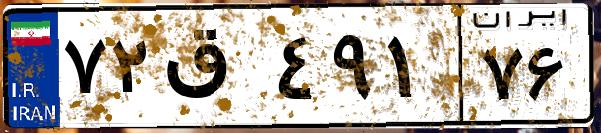1: (385, 28, 445, 110)
2: (110, 28, 158, 98)
4: (270, 28, 330, 110)
6: (525, 38, 570, 115)
7: (57, 26, 110, 100), (475, 38, 525, 113)
9: (330, 28, 385, 110)
ق: (158, 20, 270, 120)
